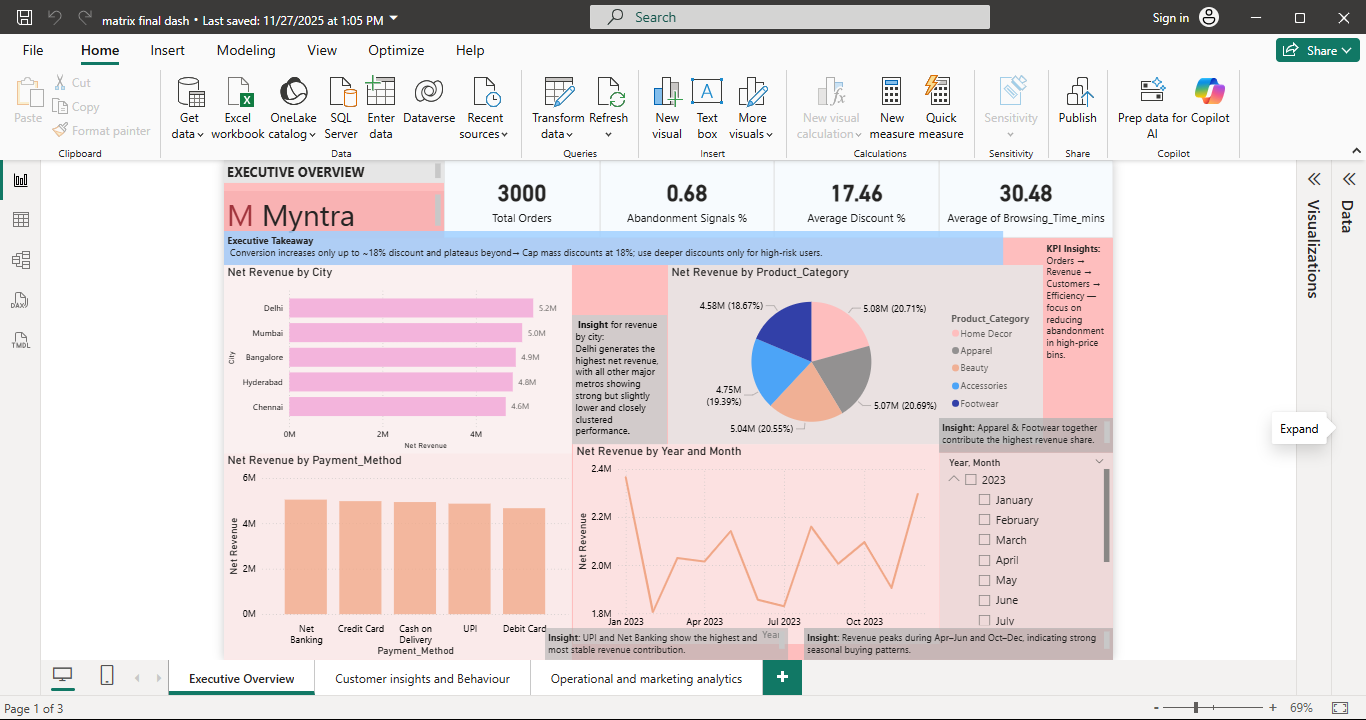

The page's visual inventory and layout, read from the dashboard file:
{"tool":"powerbi","page":{"name":"Executive Overview","canvas":[1280,720],"ordinal":0},"visuals":[{"type":"card","fields":{"Values":["Data.Total Orders"]},"box":[316.8,0,224.6,112.3],"z":0},{"type":"card","fields":{"Values":["Data.Abandonment Signals %"]},"box":[541.4,0,250.6,112.3],"z":1000},{"type":"card","fields":{"Values":["Data.Browsing_Time_mins"]},"box":[1029.6,0,250.6,112.3],"z":2000},{"type":"clusteredBarChart","fields":{"Category":["Data.City"],"Y":["Data.Net Revenue"]},"box":[0,151.2,501.1,270.7],"z":3000},{"type":"pieChart","fields":{"Category":["Data.Product_Category"],"Y":["Data.Net Revenue"]},"box":[639.4,151.2,540,257.8],"z":4000},{"type":"clusteredColumnChart","fields":{"Category":["Data.Payment_Method"],"Y":["Data.Net Revenue"]},"box":[0,421.9,501.1,298.1],"z":5000},{"type":"card","fields":{"Values":["Data.Avg Discount %"]},"box":[792,0,237.6,112.3],"z":6000},{"type":"lineChart","fields":{"Y":["Data.Net Revenue"],"Category":["Data.Purchase_Date.Variation.Date Hierarchy.Year","Data.Purchase_Date.Variation.Date Hierarchy.Month"]},"box":[502.6,409,528.5,288],"z":7000},{"type":"slicer","fields":{"Values":["Data.Purchase_Date.Variation.Date Hierarchy.Year","Data.Purchase_Date.Variation.Date Hierarchy.Month"]},"box":[1031.4,421.7,248.7,252.8],"z":8000},{"type":"textbox","box":[1179.4,79.2,100.8,237.6],"z":9000},{"type":"textbox","box":[1029.6,371.5,250.6,50.4],"z":10000},{"type":"textbox","box":[462.2,673.9,349.9,46.1],"z":11000},{"type":"textbox","box":[835.2,673.9,445,46.1],"z":12000},{"type":"textbox","box":[0,0,316.8,33.1],"z":13000},{"type":"textbox","box":[501.1,223.2,136.8,185.8],"z":14000},{"type":"textbox","box":[0,44.6,316.8,67.7],"z":14001},{"type":"textbox","box":[0,102.2,1121.8,49],"z":14002}]}

Visuals, with their boxes on the page's 1280x720 design canvas (x1, y1, x2, y2). These are canvas units, not pixel positions in the 1366x720 screenshot, which may show the page scaled, cropped or inside an application window:
card - Data.Total Orders: 317, 0, 541, 112
card - Data.Abandonment Signals %: 541, 0, 792, 112
card - Data.Browsing_Time_mins: 1030, 0, 1280, 112
clusteredBarChart - Data.City x Data.Net Revenue: 0, 151, 501, 422
pieChart - Data.Product_Category x Data.Net Revenue: 639, 151, 1179, 409
clusteredColumnChart - Data.Payment_Method x Data.Net Revenue: 0, 422, 501, 720
card - Data.Avg Discount %: 792, 0, 1030, 112
lineChart - Data.Net Revenue x Data.Purchase_Date.Variation.Date Hierarchy.Year: 503, 409, 1031, 697
slicer - Data.Purchase_Date.Variation.Date Hierarchy.Year x Data.Purchase_Date.Variation.Date Hierarchy.Month: 1031, 422, 1280, 674
textbox: 1179, 79, 1280, 317
textbox: 1030, 372, 1280, 422
textbox: 462, 674, 812, 720
textbox: 835, 674, 1280, 720
textbox: 0, 0, 317, 33
textbox: 501, 223, 638, 409
textbox: 0, 45, 317, 112
textbox: 0, 102, 1122, 151
